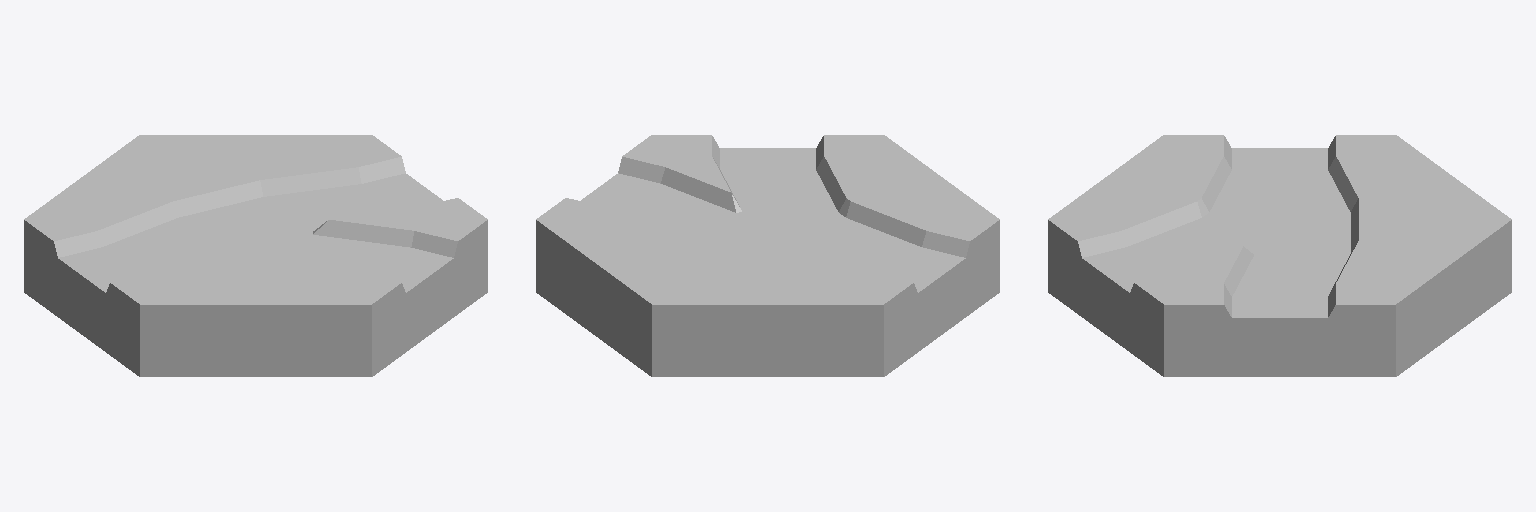
The model's file is river_intersectionC.obj.
3 renders of one model, left to right at view 1: azimuth 30°, elevation 25°; view 2: azimuth 150°, elevation 25°; view 3: azimuth 270°, elevation 25°, orthographic.
Parts seen in each view (by area): view 1: river_intersectionC; view 2: river_intersectionC; view 3: river_intersectionC.
Boxes of the visible parts, <box> form: river_intersectionC: <box>24,135,487,376</box>; river_intersectionC: <box>536,135,999,376</box>; river_intersectionC: <box>1048,135,1511,376</box>.
Size of the model in its own units: 1 by 0.2 by 1.15.